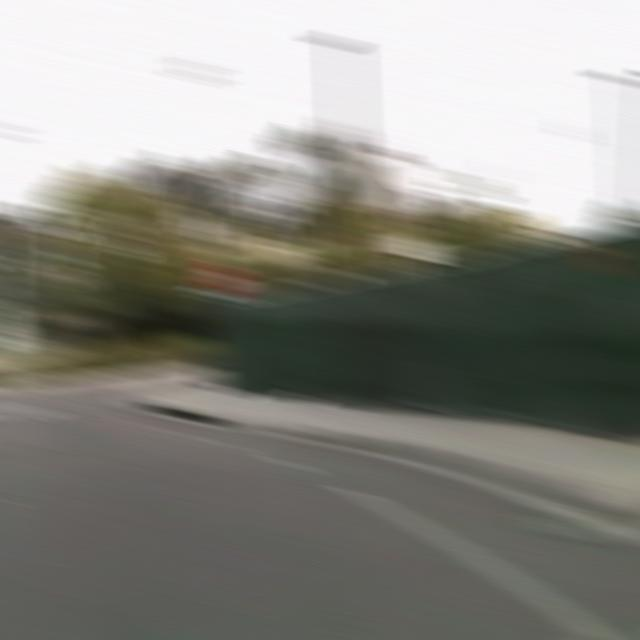stop_sign: (202, 260, 246, 299)
